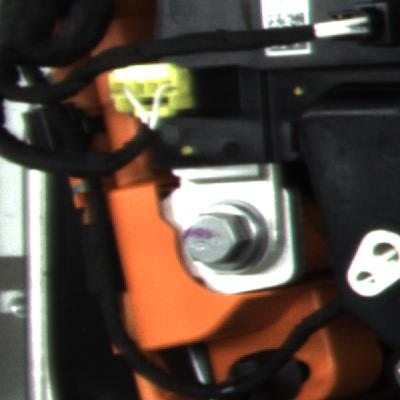nut_b: (170, 187, 271, 285)
